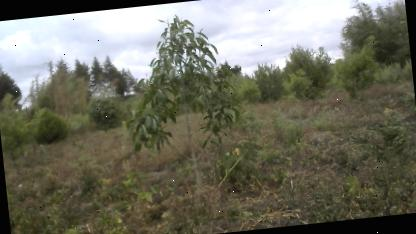tree: (108, 7, 252, 211)
